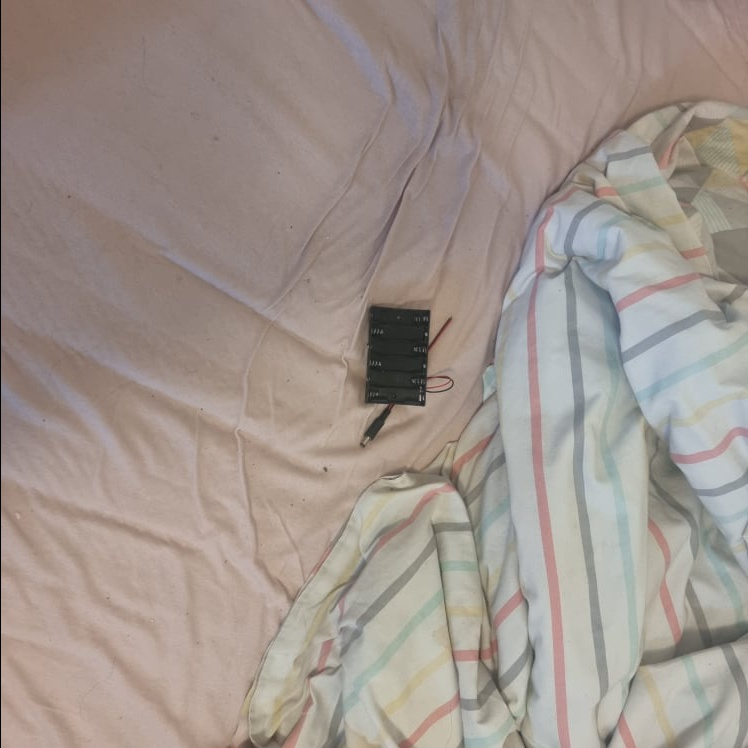BATTERY BOX: (361, 303, 430, 408)
